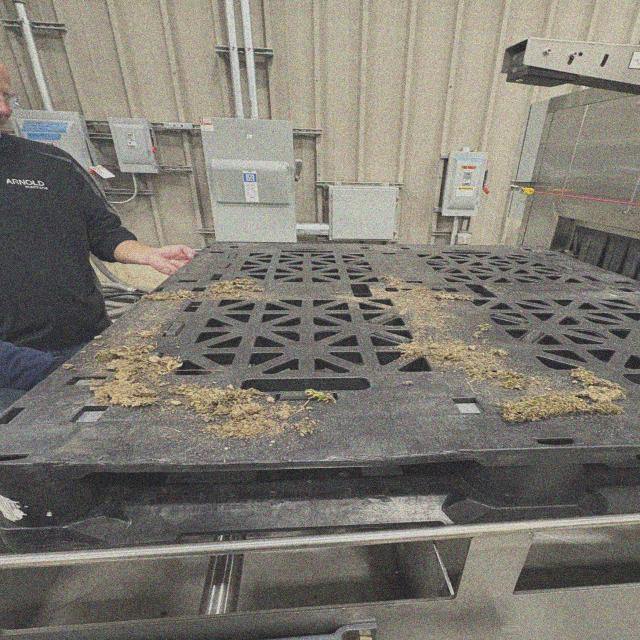igps: (0, 228, 640, 560)
